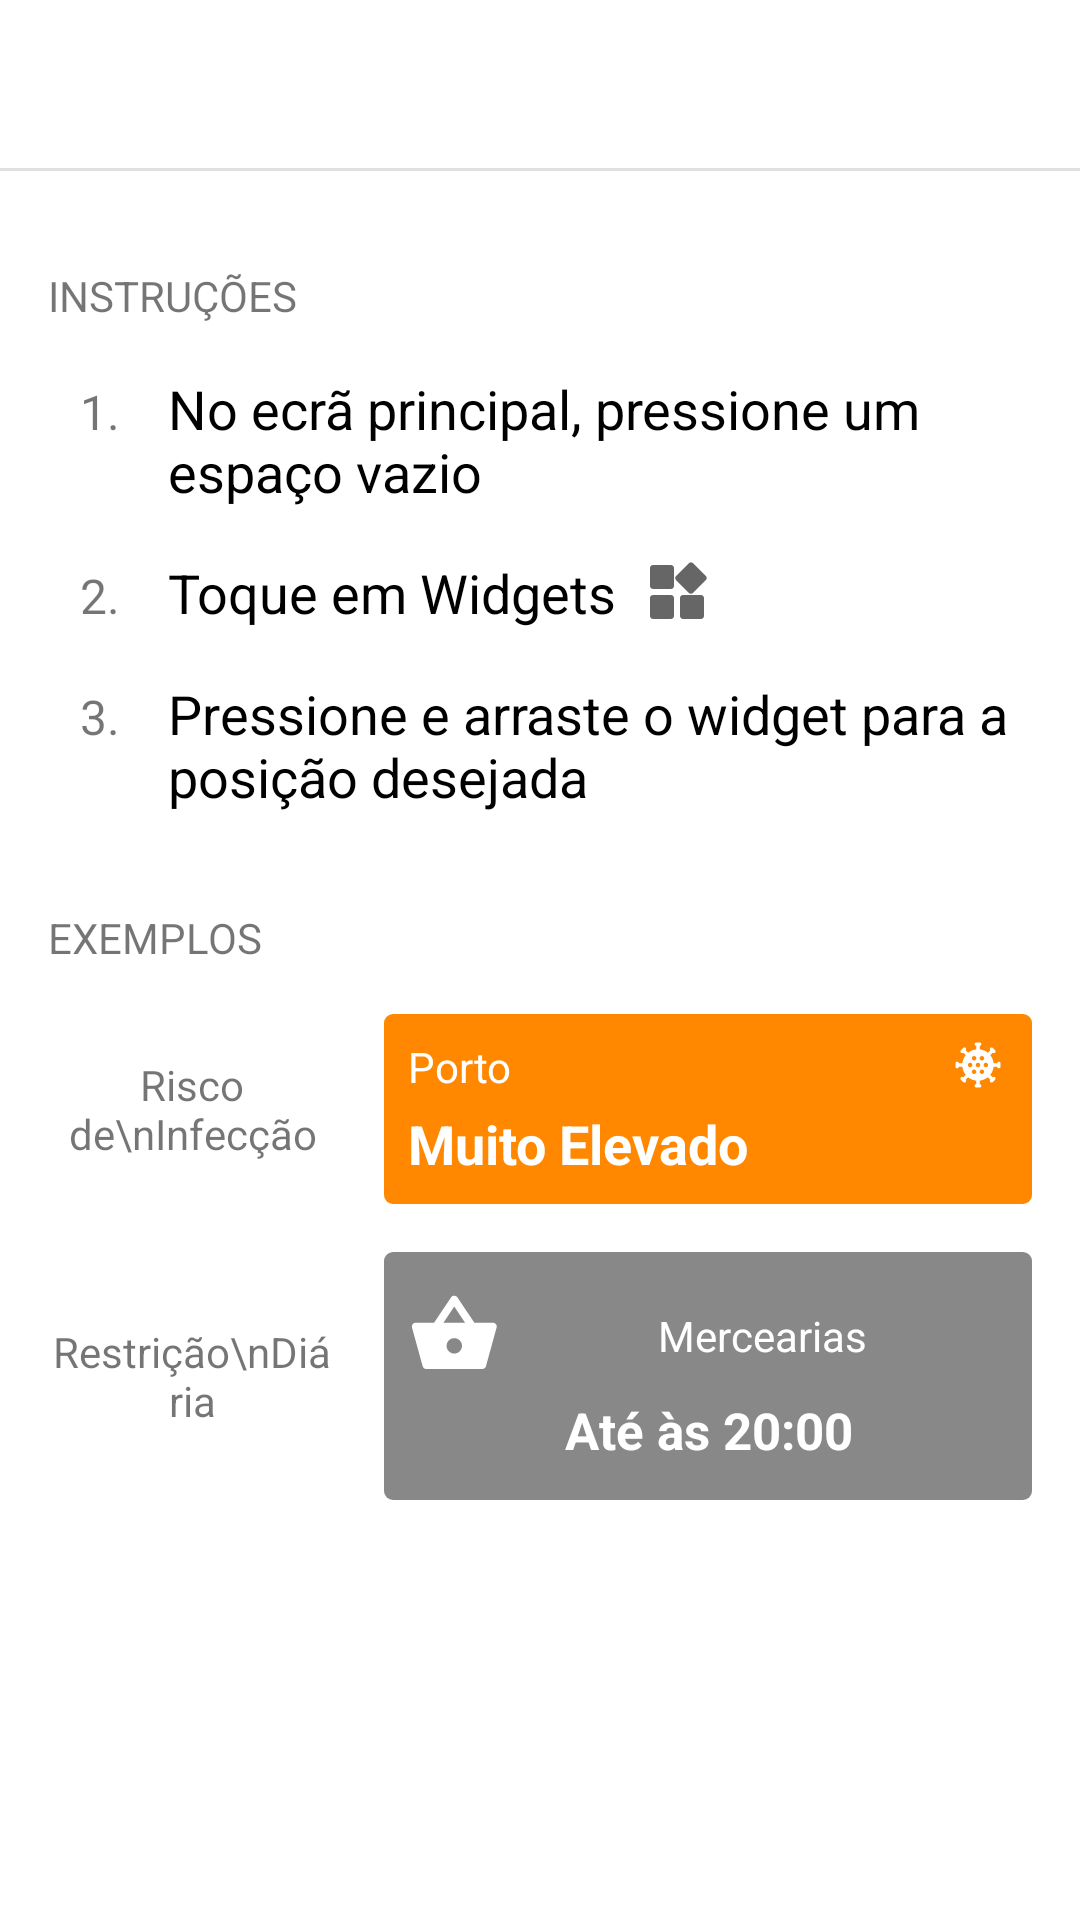

Locate icon controls on the screen. Image size 1080×1920, boxes as [x1, y1, x2, y2].
groceries: [412, 1295, 497, 1369]
virus: [955, 1042, 1001, 1088]
